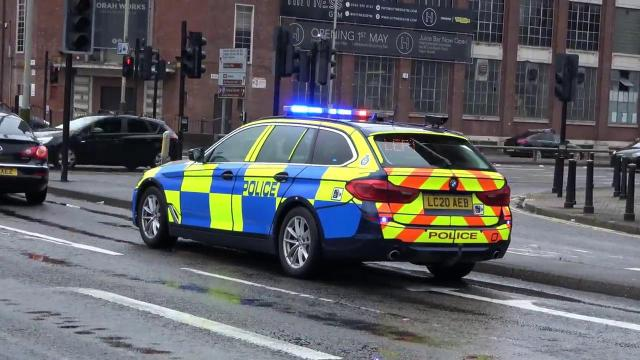police_car: (136, 104, 514, 275)
